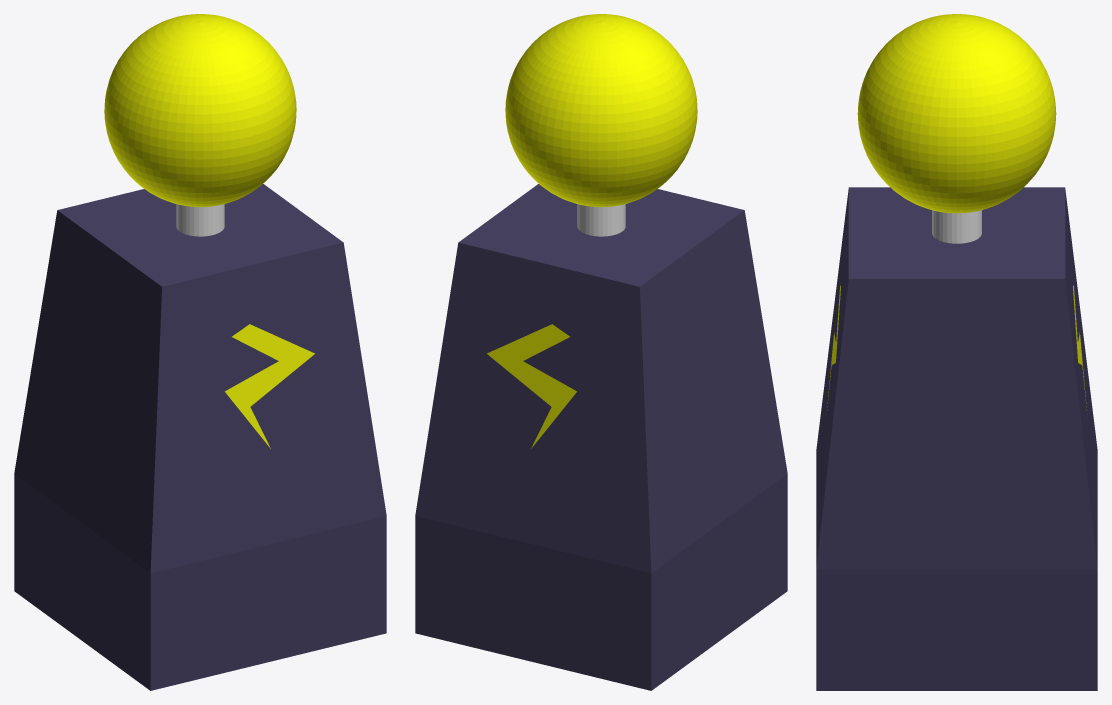
The model's file is TowerLighting.fbx.
3 renders of one model, left to right at view 1: azimuth 30°, elevation 25°; view 2: azimuth 150°, elevation 25°; view 3: azimuth 270°, elevation 25°, orthographic. The views are drawn at different scales.
Visible parts, largest first — view 1: Cube, Sphere, Plane, Cylinder; view 2: Cube, Sphere, Plane, Cylinder; view 3: Cube, Sphere, Cylinder, Plane.
Boxes of the visible parts, x1,y1,x2,y2 form: Cube: (14, 184, 386, 690); Sphere: (104, 14, 296, 206); Plane: (225, 324, 314, 448); Cylinder: (176, 204, 224, 236); Cube: (415, 184, 787, 690); Sphere: (505, 14, 697, 206); Plane: (487, 324, 576, 448); Cylinder: (577, 204, 625, 236); Cube: (816, 187, 1097, 690); Sphere: (857, 14, 1056, 213); Cylinder: (932, 210, 981, 243); Plane: (827, 285, 1086, 410).
Bounding box in the file's own units: 280 × 668 × 280.
